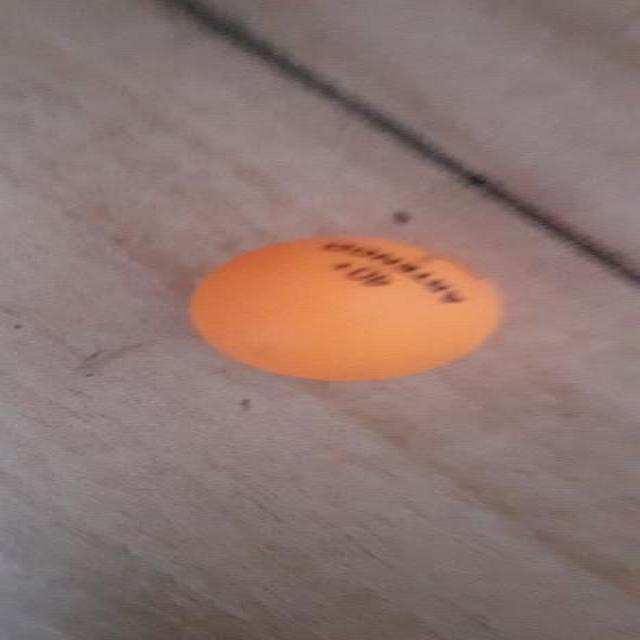ping-pong-ball: (188, 236, 508, 380)
